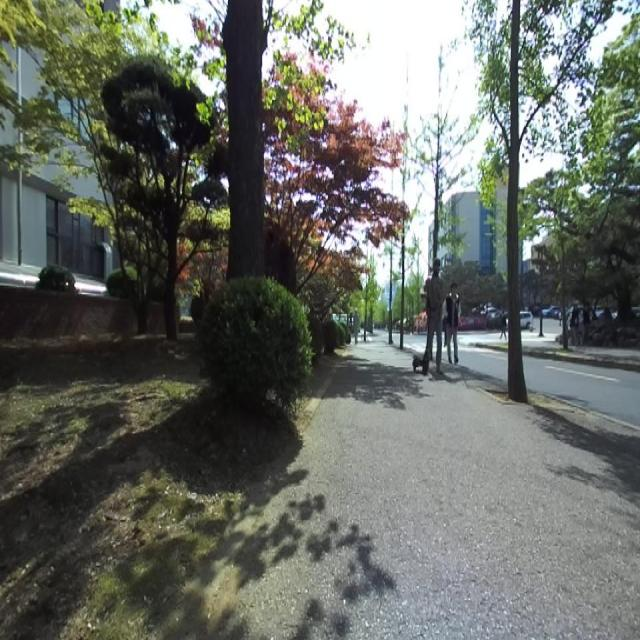sidewalk: (160, 338, 640, 640)
